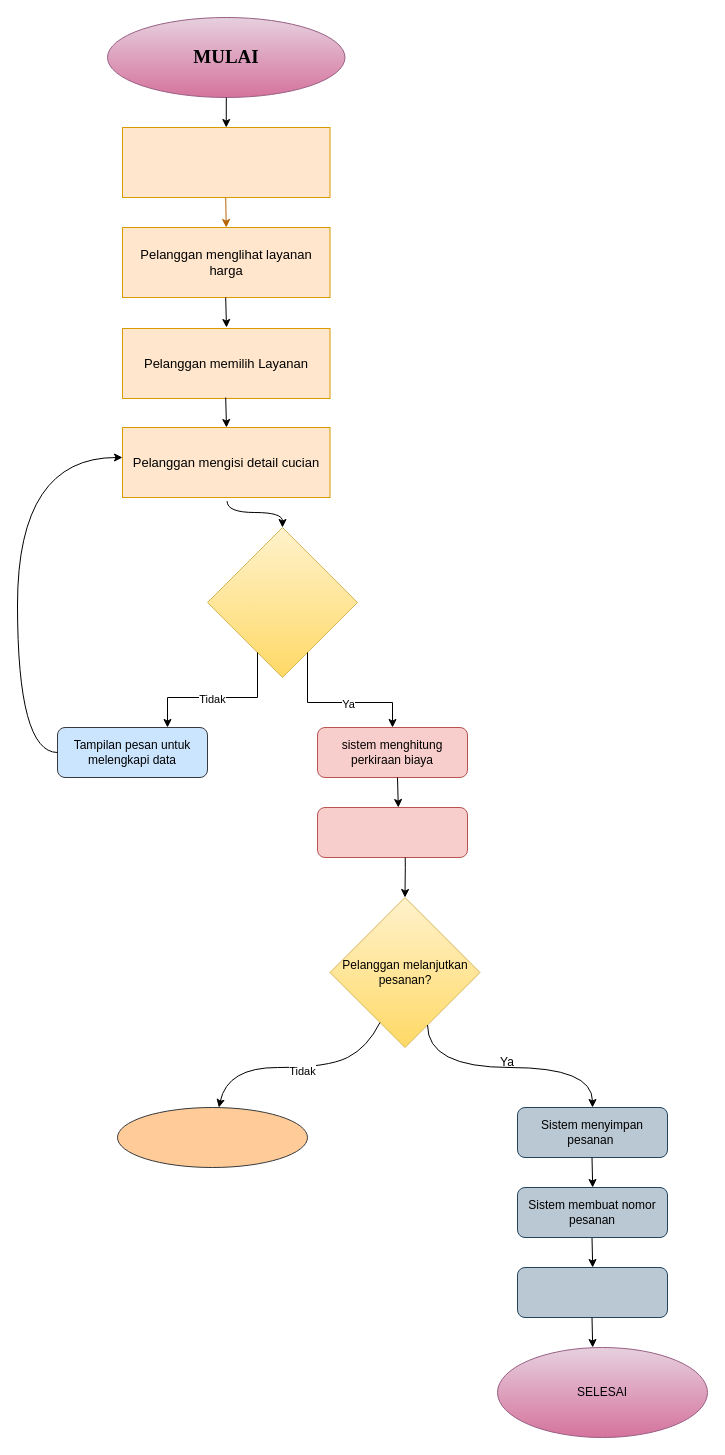
This 725x1455 diagram has some shape labels left out. Each missing label, with the centre of its shape:
Data pesanan lengkap?: [282,602]
Pelanggan membuka aplikasiSmart Laundry: [226,162]
Pelanggan memeriksa rincian pesanan: [392,832]
Pesanan tidak dilanjutkan: [212,1137]
Sistem menampilkan konfirmasi pesanan: [592,1292]
